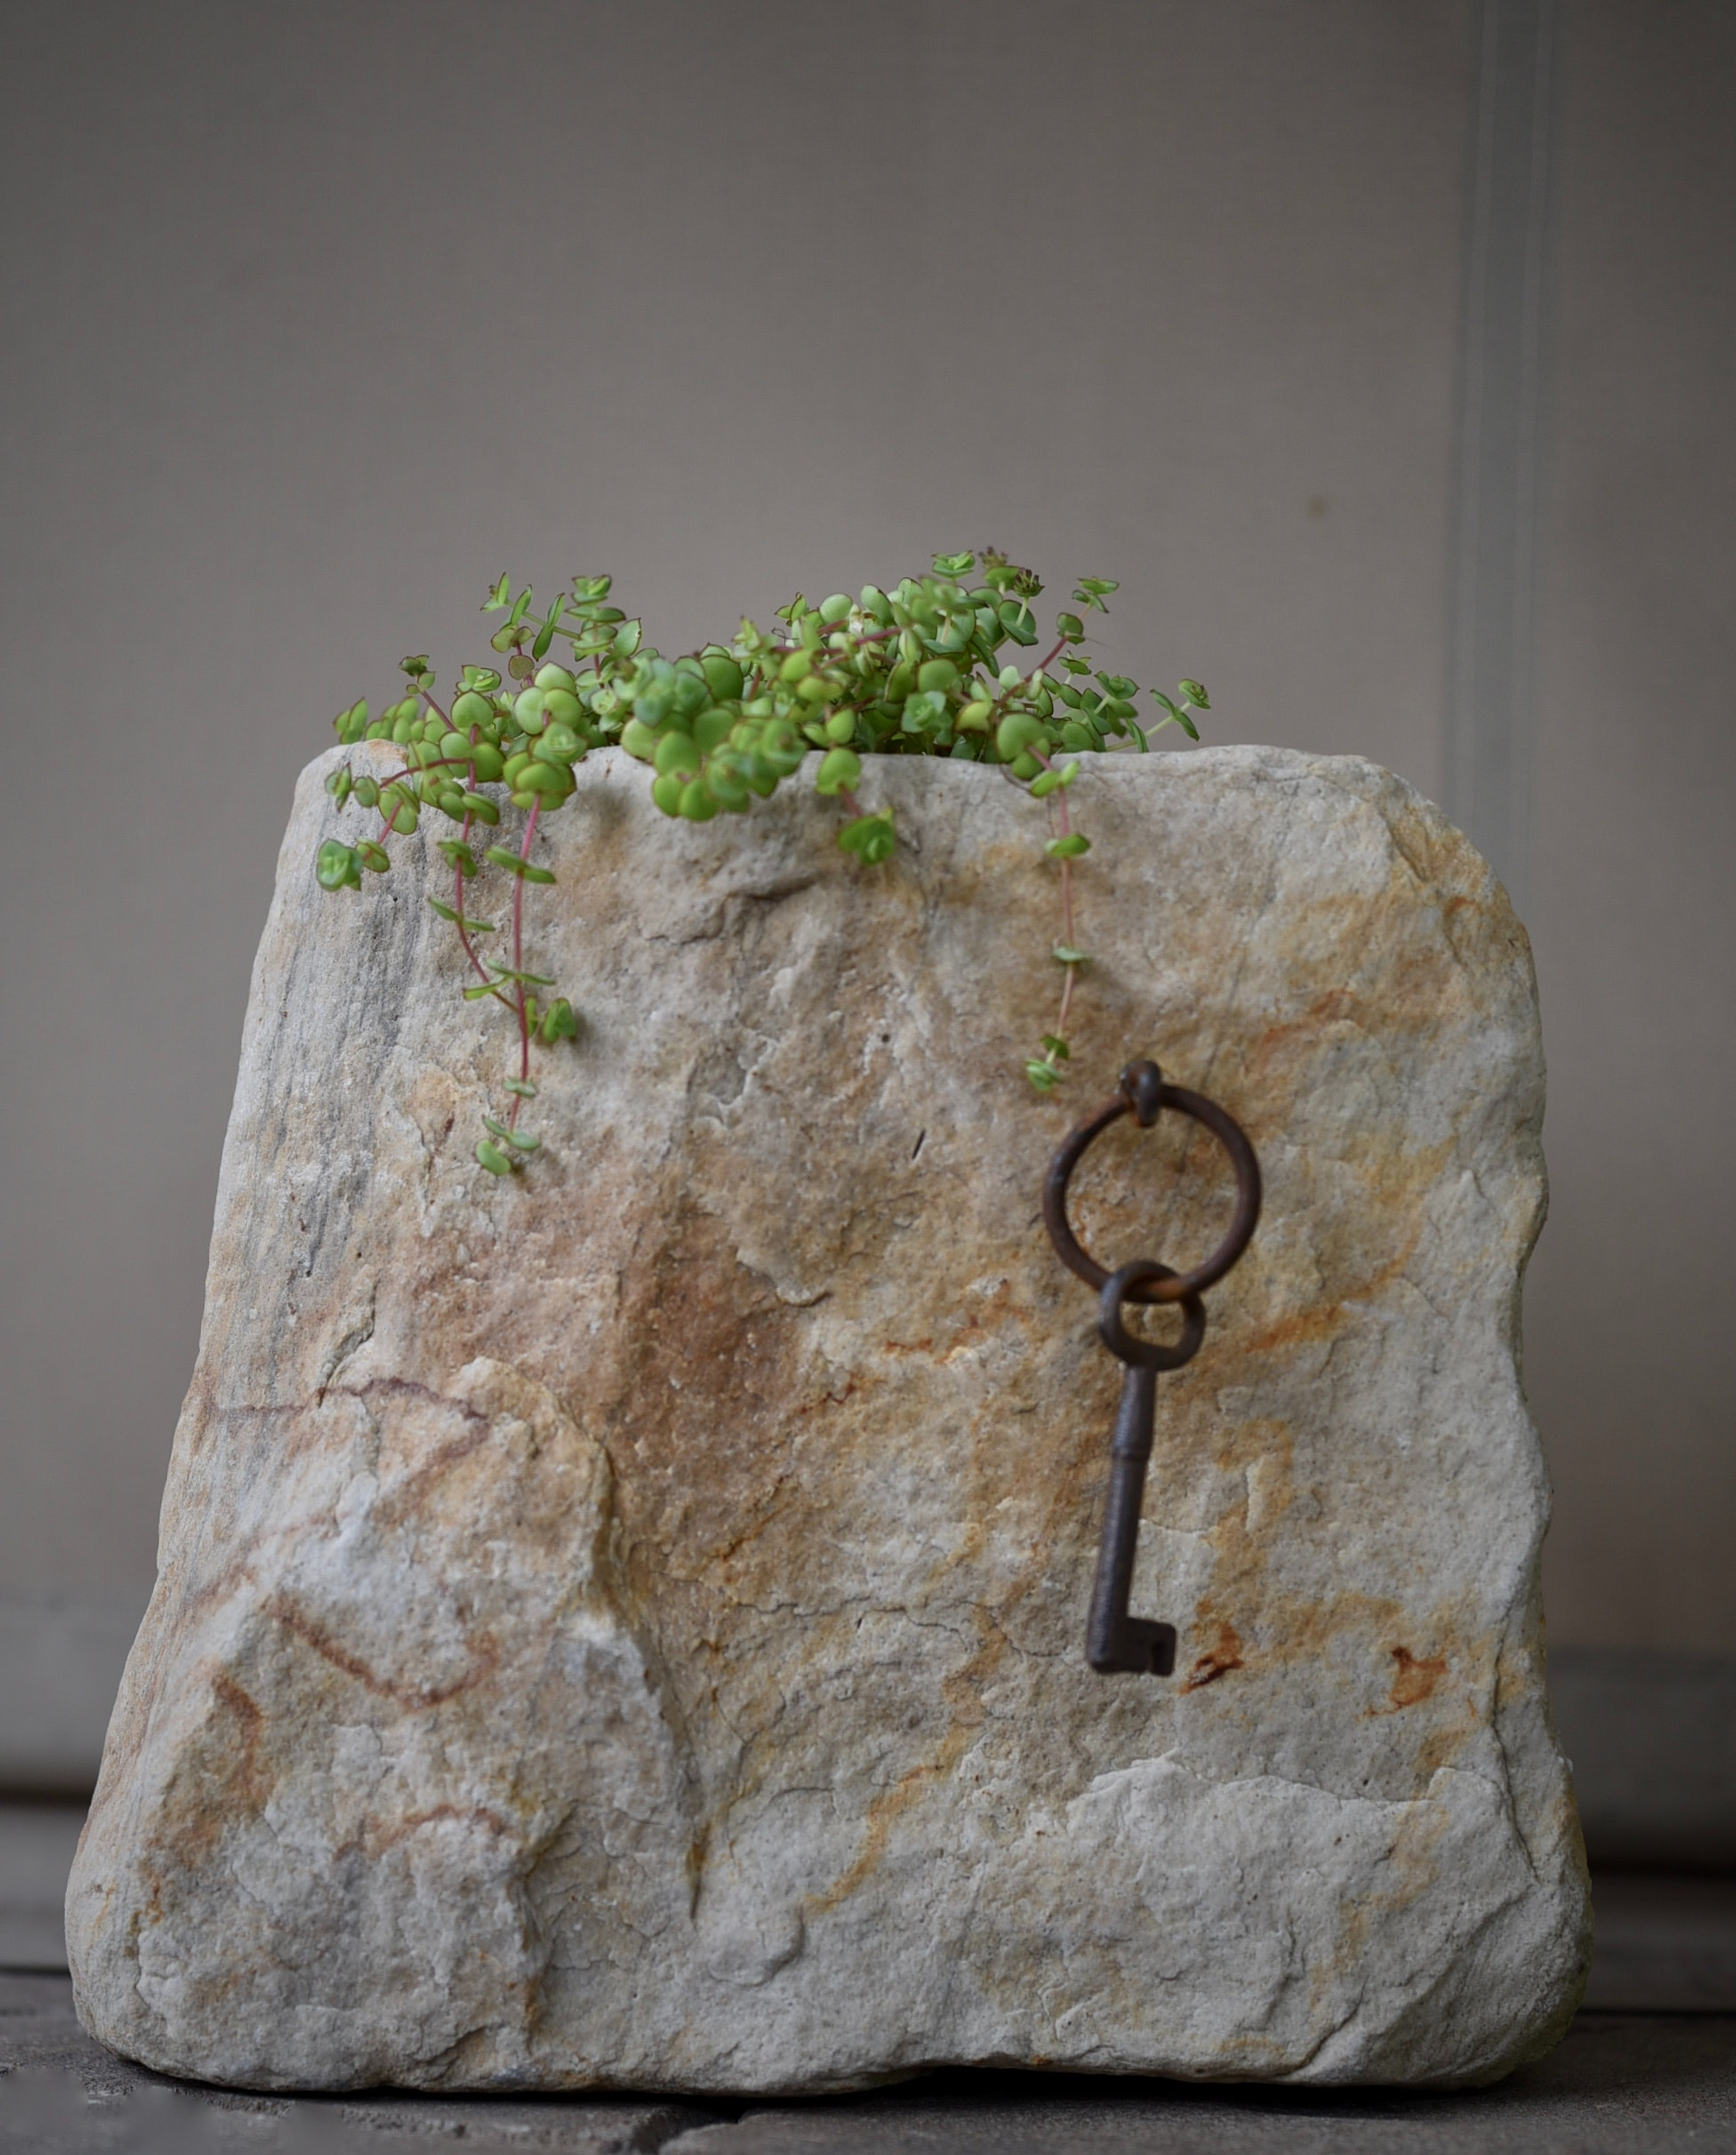key: (1088, 1236, 1212, 1700)
